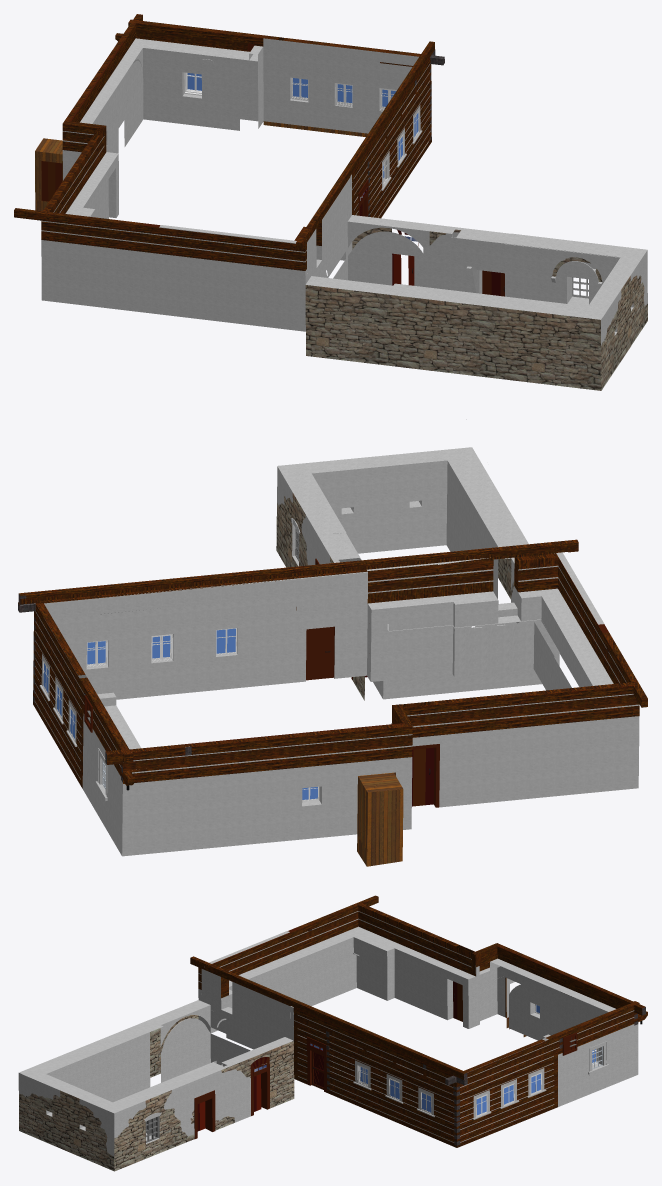
File: steny_obvodove.gltf
3 renders of one model, top to bottom at view 1: azimuth 30°, elevation 25°; view 2: azimuth 150°, elevation 25°; view 3: azimuth 270°, elevation 25°, orthographic. The views are drawn at different scales.
Visible parts, largest first — view 1: root; view 2: root; view 3: root.
Boxes of the visible parts, <box> form: root: <box>14,14,647,390</box>; root: <box>18,419,647,866</box>; root: <box>18,895,647,1171</box>.
Bounding box in the file's own units: 19.95 × 4.89 × 27.82.
Materials: 27 (11 with a texture image).
